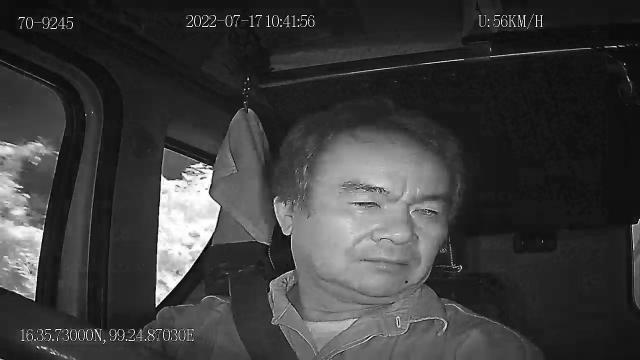SafeDriving: (338, 188, 389, 216), (404, 197, 446, 222)
Seatbelt: (228, 268, 300, 360)
